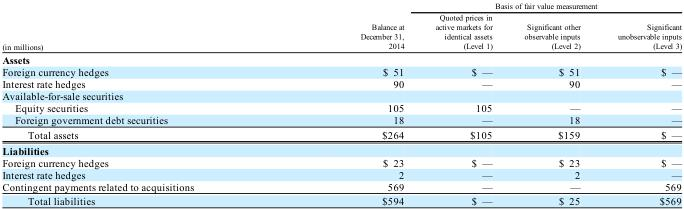table: (1, 1, 681, 206)
table column: (1, 1, 276, 206), (276, 1, 419, 206), (507, 1, 598, 206), (419, 1, 507, 206), (598, 1, 681, 206)
table column header: (1, 1, 681, 52)
table projected row header: (1, 142, 681, 156), (1, 52, 681, 65), (1, 89, 681, 101)
table row: (1, 11, 681, 52), (1, 126, 681, 142), (1, 142, 681, 156), (1, 52, 681, 65), (1, 113, 681, 126), (1, 180, 681, 193), (1, 193, 681, 206), (1, 65, 681, 77), (1, 77, 681, 89), (1, 89, 681, 101), (1, 101, 681, 113), (1, 156, 681, 168), (1, 168, 681, 180), (1, 1, 681, 11)
table spanning cell: (1, 1, 276, 52), (276, 1, 419, 52), (419, 1, 681, 11)
